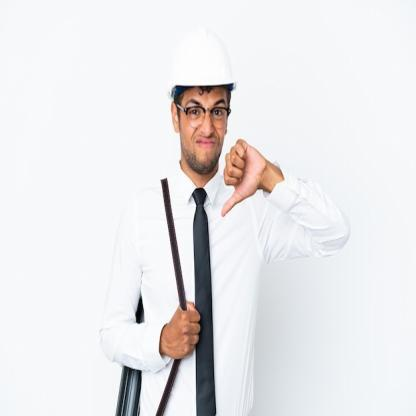thumb_down: (220, 136, 264, 220)
